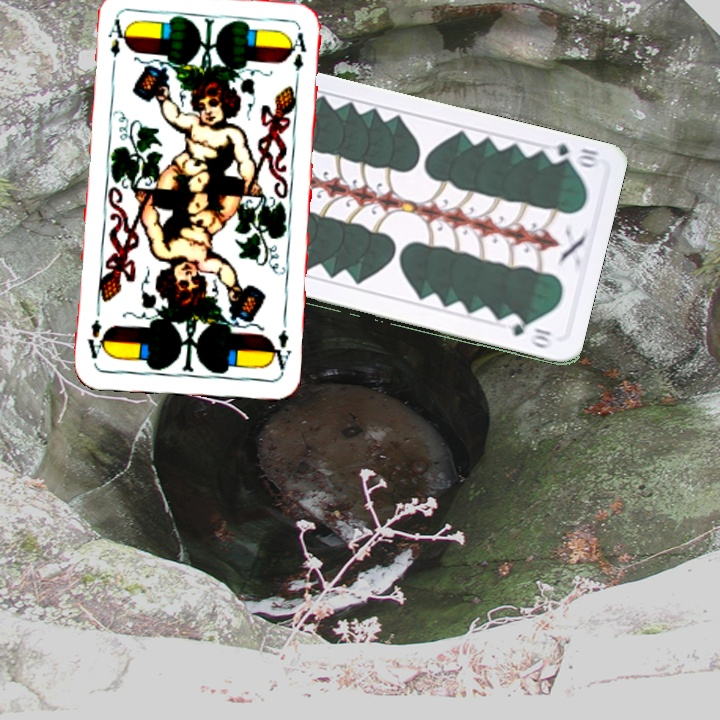EA: (266, 316, 294, 375), (105, 15, 128, 60)
G10: (541, 139, 601, 171)
